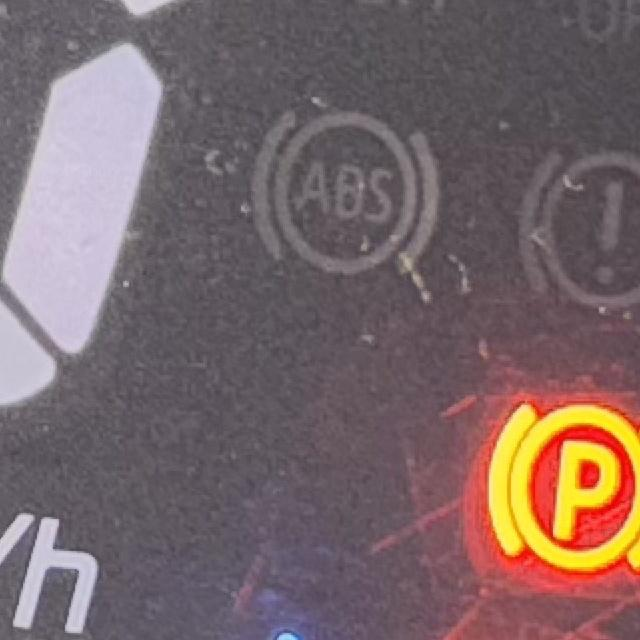Parking Break On: (479, 393, 640, 580)
